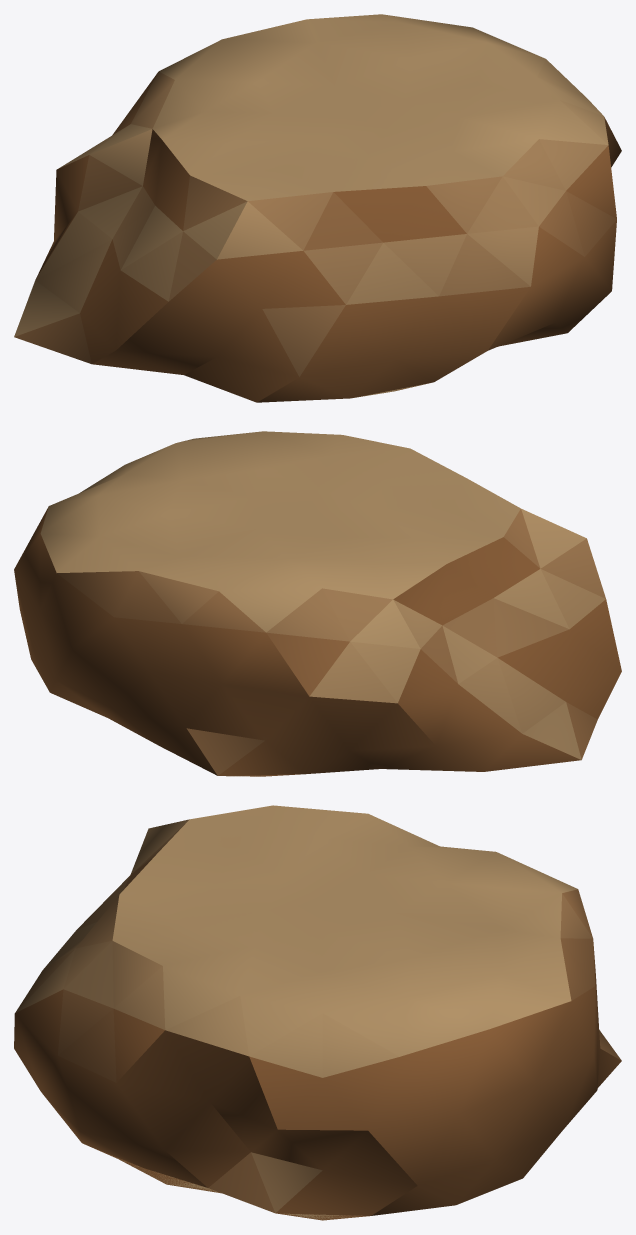
Rendered from desert_rock_a.glb.
3 views of the same model, one above another, from view 1: azimuth 30°, elevation 25°; view 2: azimuth 150°, elevation 25°; view 3: azimuth 270°, elevation 25° (orthographic). The views are drawn at different scales.
Parts seen in each view (by area): view 1: desert_rock_a; view 2: desert_rock_a; view 3: desert_rock_a.
Part boxes in pixels (box(x1,y1,x2,y2)): desert_rock_a: box(14, 14, 621, 402); desert_rock_a: box(14, 431, 621, 776); desert_rock_a: box(14, 805, 621, 1220).
Bounding box in the file's own units: 1.82 × 0.5067 × 1.54.
